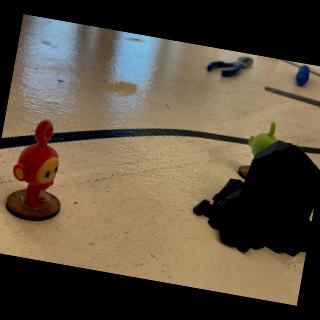teletubby: (13, 120, 59, 208), (249, 122, 277, 156)
